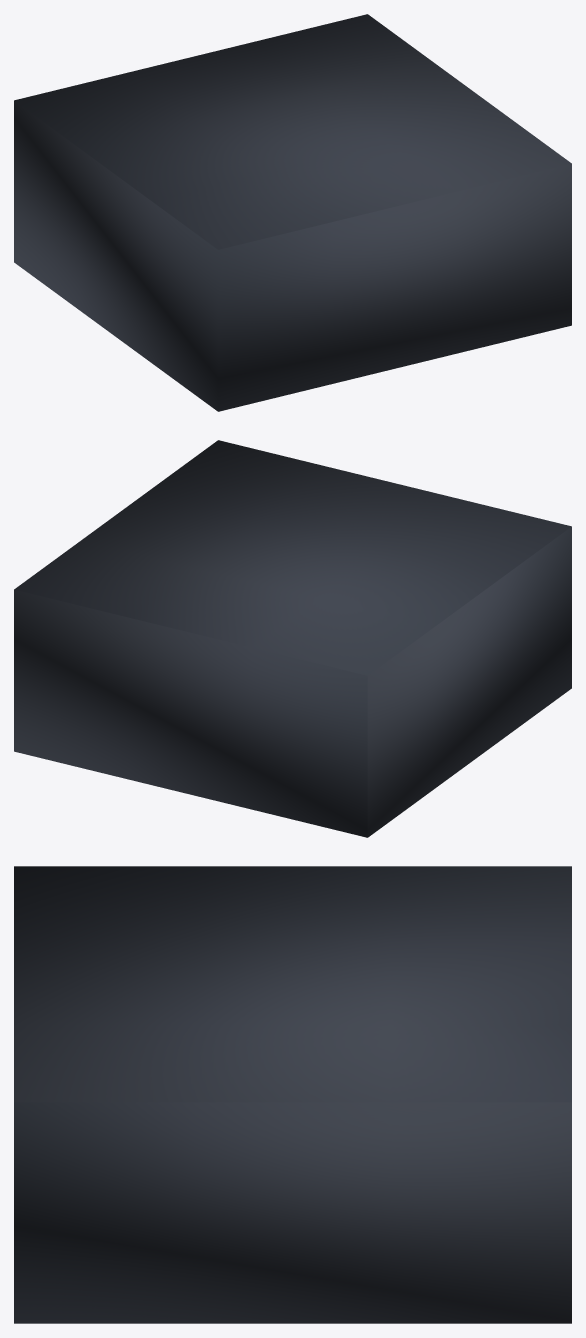
The model's file is pack.agentspace.clothing.hat.01.glb.
The picture shows the model from 3 angles, top to bottom: view 1: azimuth 30°, elevation 25°; view 2: azimuth 150°, elevation 25°; view 3: azimuth 270°, elevation 25°; orthographic projection. The views are drawn at different scales.
Parts seen in each view (by area): view 1: pack.agentspace.clothing.hat.01.mesh; view 2: pack.agentspace.clothing.hat.01.mesh; view 3: pack.agentspace.clothing.hat.01.mesh.
Part boxes in pixels (box(x1,y1,x2,y2)): pack.agentspace.clothing.hat.01.mesh: box(14, 14, 571, 411); pack.agentspace.clothing.hat.01.mesh: box(14, 440, 571, 837); pack.agentspace.clothing.hat.01.mesh: box(14, 866, 571, 1323).
Size of the model in its own units: 0.32 by 0.14 by 0.32.
Materials: 1 (1 with a texture image).
